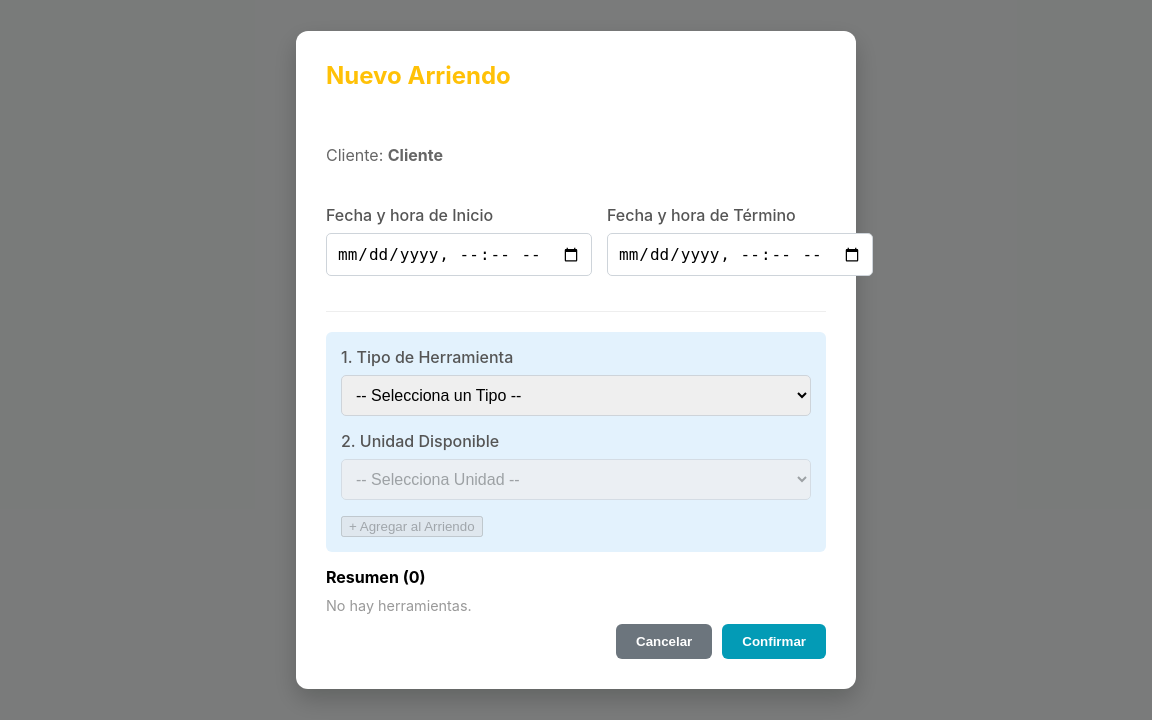
Test: NewRentalModal - Enhanced Coverage › Uncovered Line: handleAddTool validation branches › should handle missing unitToAdd and return early
The width and height of the screenshot is (1152, 720).
Select "Taladro (Herramientas de Poder)" in the dropdown showing "-- Selecciona un Tipo --" below "1. Tipo de Herramienta" at (576, 396), box [341,376,811,416]
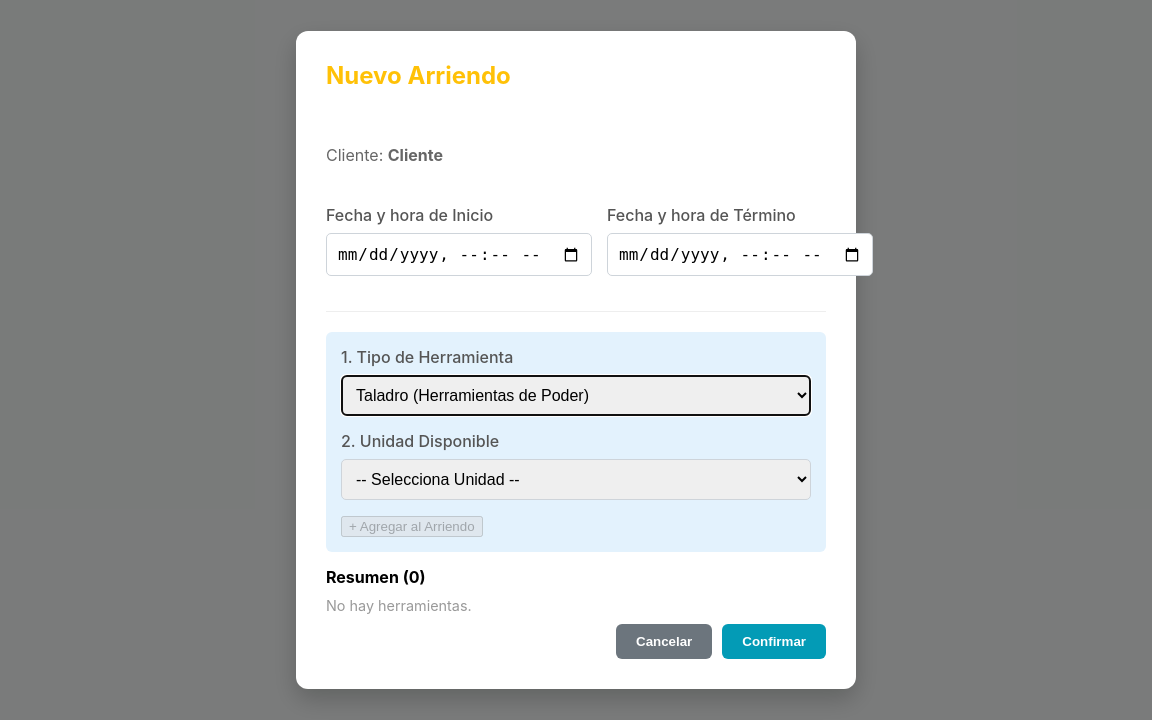
Select "T001 - Disponible" in the dropdown showing "-- Selecciona Unidad --" below "2. Unidad Disponible" at (576, 480), box [341,460,811,500]
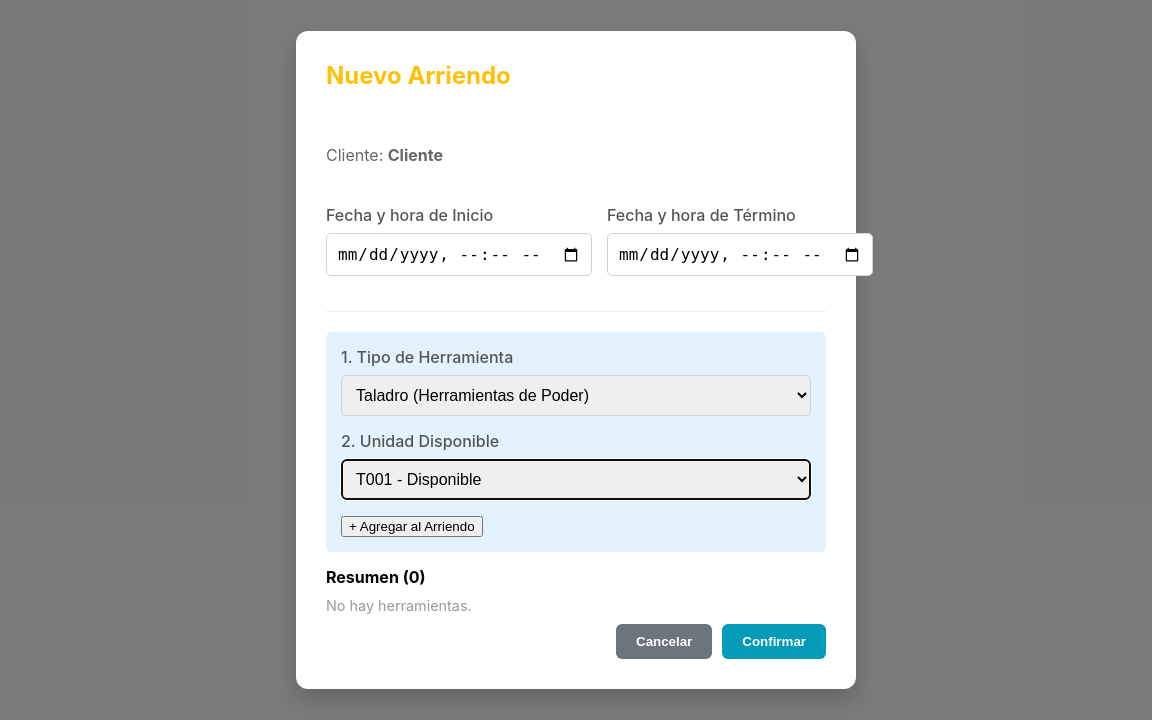
Click the button "+ Agregar al Arriendo".
click(412, 527)  # box [341,516,483,538]
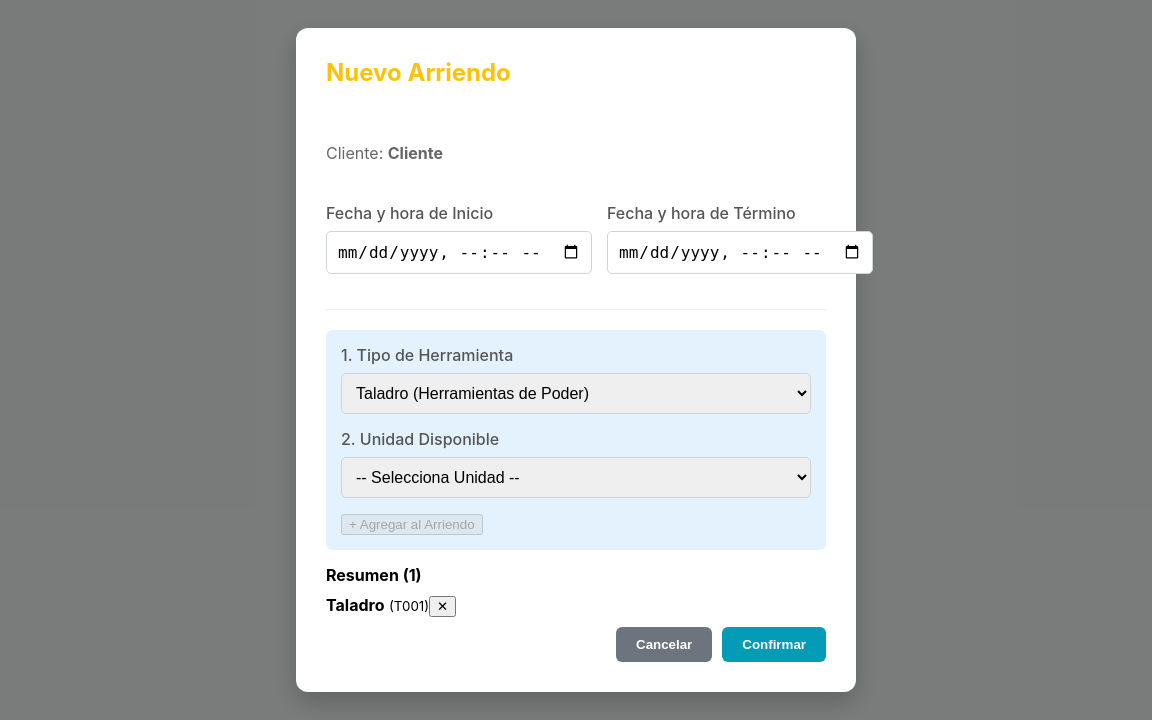
Check: the text "Resumen (1)" is shown, box [326,565,422,585]
